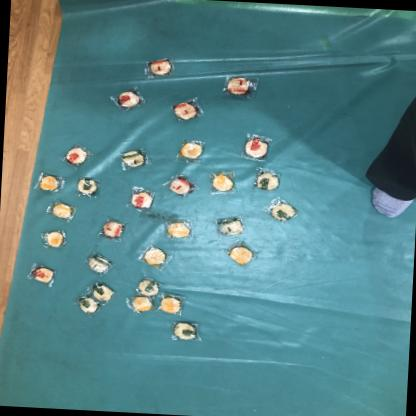green_setoshio: (262, 198, 302, 226), (249, 165, 287, 194), (211, 211, 246, 238), (83, 248, 114, 276), (115, 147, 147, 171), (74, 173, 104, 198), (167, 320, 200, 342), (74, 292, 100, 317), (132, 276, 160, 298), (90, 280, 114, 300)
red_setoshio: (219, 70, 259, 102), (138, 52, 178, 81), (166, 95, 206, 124), (238, 132, 274, 160), (108, 84, 146, 110), (23, 260, 60, 286), (94, 213, 129, 240), (165, 170, 197, 196), (124, 184, 157, 209), (61, 143, 90, 168)
yellow_setoshio: (136, 242, 172, 271), (176, 134, 210, 164), (204, 168, 238, 194), (224, 239, 256, 266), (156, 289, 187, 315), (33, 170, 64, 195), (161, 217, 193, 240), (36, 227, 68, 250), (47, 200, 74, 221), (123, 295, 152, 314)
